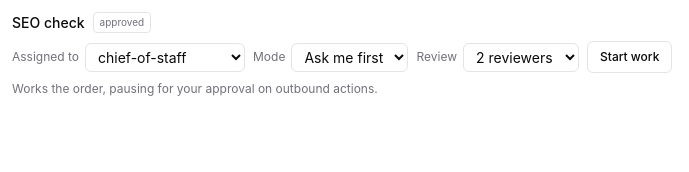
Test case: WorkOrderActionsNode › shows the server's refusal verbatim
This screenshot has width=689, height=172.
Click the button "Start work": (630, 57) [587, 41, 672, 73]
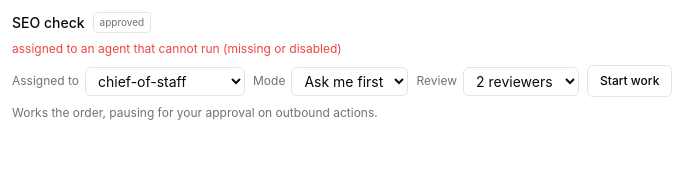
expect the text "assigned to an agent that cannot run (missing or disabled)" is shown: met, box [12, 41, 342, 56]
